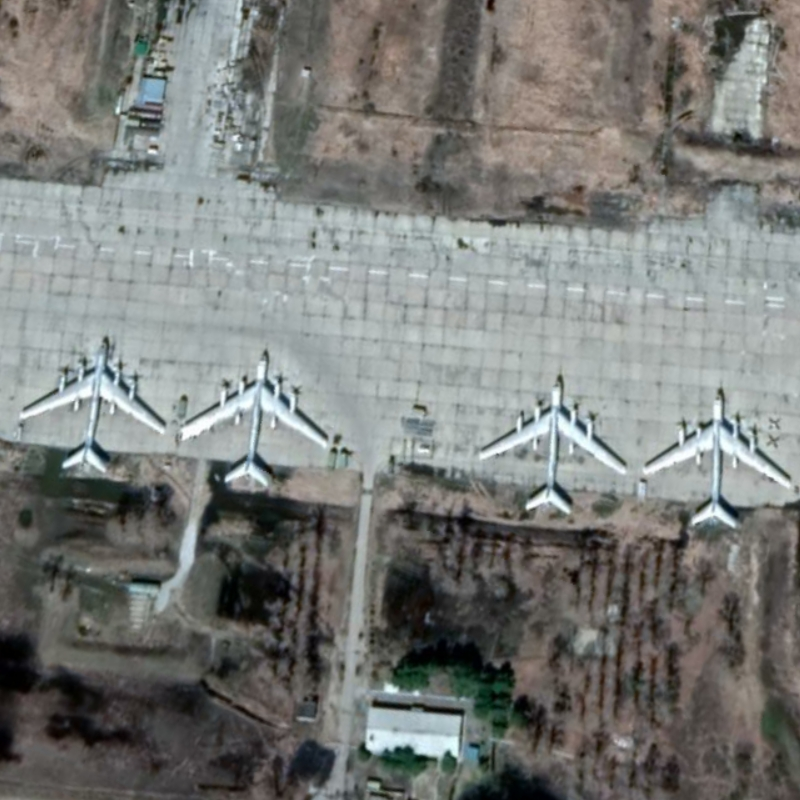A17: (640, 391, 793, 531), (477, 379, 628, 516), (177, 354, 330, 489), (18, 341, 168, 475)
